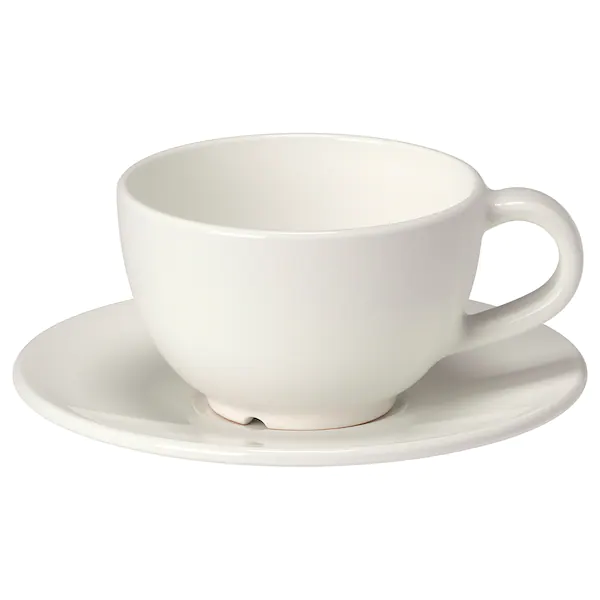cup: (10, 131, 589, 468)
